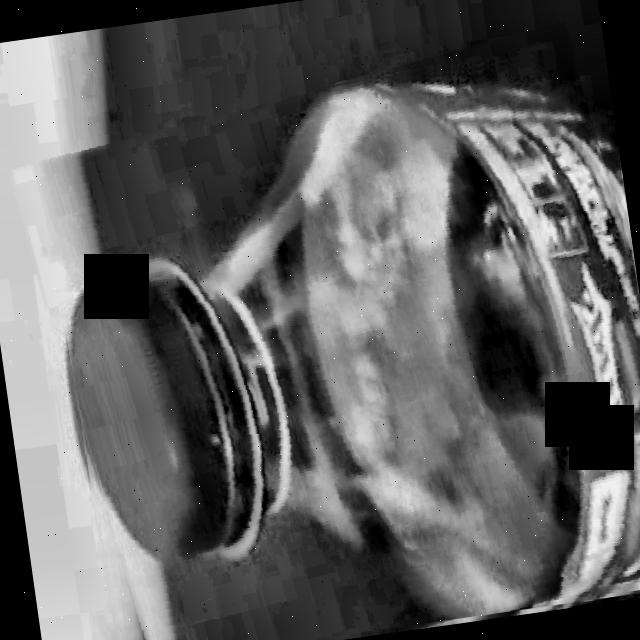bottle: (71, 78, 640, 618)
